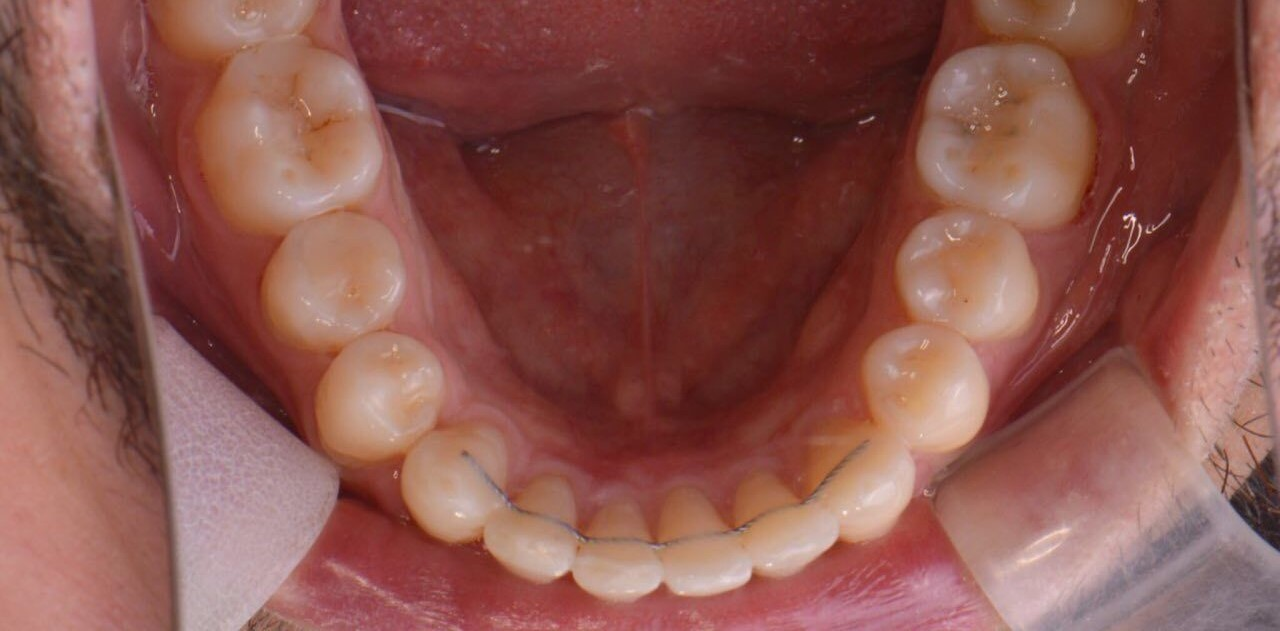LL1BC_healthy: (859, 328, 989, 459)
LL1M_decay: (912, 43, 1100, 230)
LL2BC_healthy: (895, 209, 1048, 355)
LL2M_decay: (956, 1, 1150, 72)
LLCI_decay: (661, 492, 753, 605)
LLC_decay: (807, 422, 913, 544)
LLLI_decay: (731, 465, 837, 587)
LR1BC_healthy: (316, 332, 453, 465)
LR1M_decay: (196, 37, 387, 237)
LR2BC_healthy: (252, 209, 404, 352)
LR2M_healthy: (144, 1, 332, 63)
LRCI_decay: (570, 496, 662, 604)
LRC_decay: (404, 418, 516, 548)
LRLI_decay: (476, 478, 591, 587)
